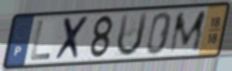0: (145, 11, 173, 57)
8: (88, 13, 117, 61)
L: (28, 19, 52, 62)
M: (167, 9, 208, 56)
U: (115, 11, 150, 59)
X: (53, 14, 93, 62)
